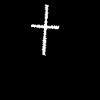single_crochet: (31, 5, 58, 54)
